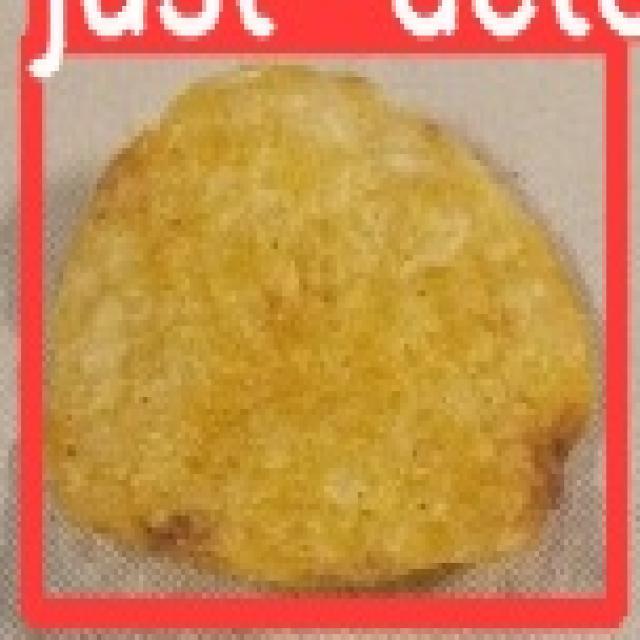Wet Waste: (69, 62, 599, 577)
